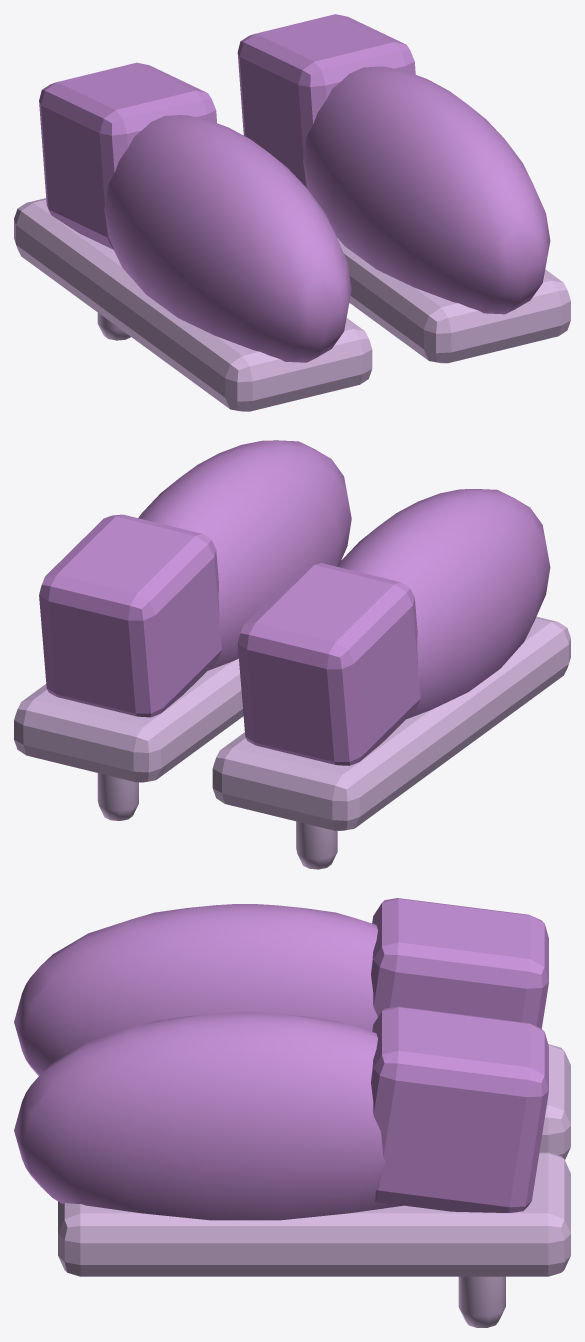
File: VM-CAL-EXT186.glb
3 views of the same model, one above another, from view 1: azimuth 30°, elevation 25°; view 2: azimuth 150°, elevation 25°; view 3: azimuth 270°, elevation 25° (orthographic). The views are drawn at different scales.
Parts seen in each view (by area): view 1: Tacones Calvin Klein; view 2: Tacones Calvin Klein; view 3: Tacones Calvin Klein.
Part boxes in pixels (<box>): Tacones Calvin Klein: <box>14,14,570,411</box>; Tacones Calvin Klein: <box>14,440,570,869</box>; Tacones Calvin Klein: <box>14,898,570,1327</box>.
Size of the model in its own units: 0.2115 by 0.1621 by 0.2653.
